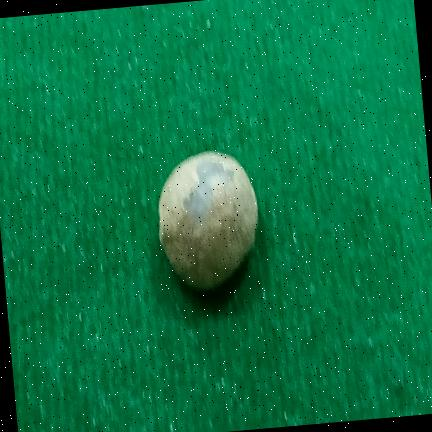cut: (159, 151, 258, 290)
